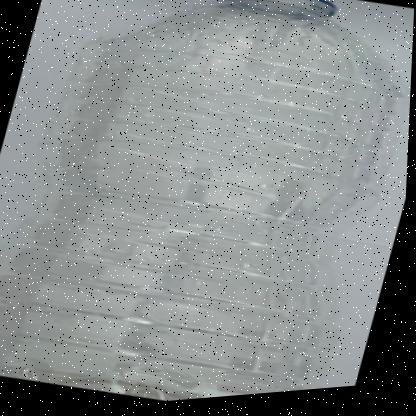open bottle: (56, 1, 416, 171)
